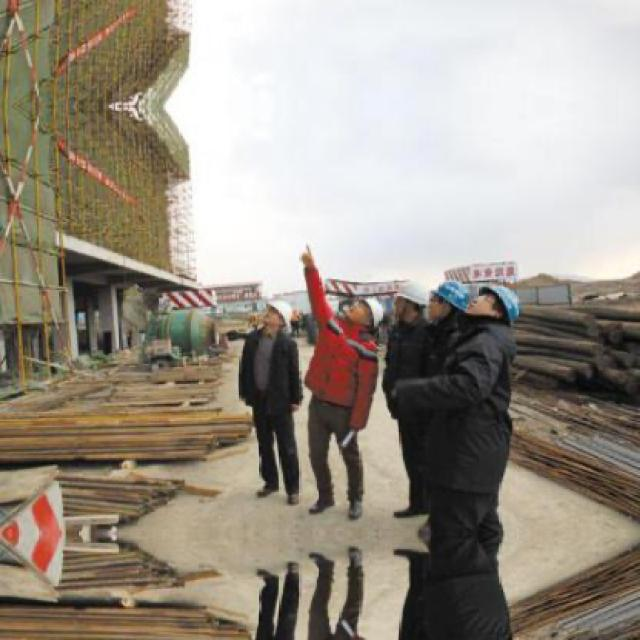con casco: (461, 276, 530, 340), (422, 261, 482, 330), (386, 274, 430, 327), (341, 282, 389, 324), (259, 298, 297, 342)
